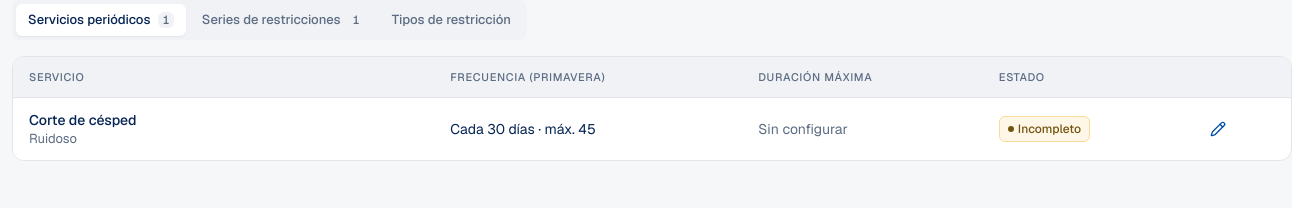
it: añade Tipos de restricción conservando las pestañas de servicios y series
The image size is (1292, 208).
Expected: the tab "Servicios periódicos 1" is shown, [16,4,186,36]
Expected: the tab "Series de restricciones 1" is shown, [190,4,376,36]
Step 1. Click the tab "Tipos de restricción" → point(451, 20), box [380,4,523,36]
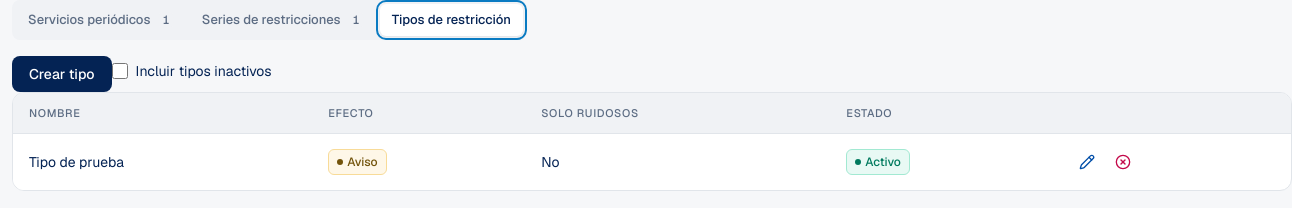
Expected: the table named "Tipos de restricción" is shown, [13,93,1291,190]
Now the text "Tipo de prueba" is shown, box [13,134,312,190]
